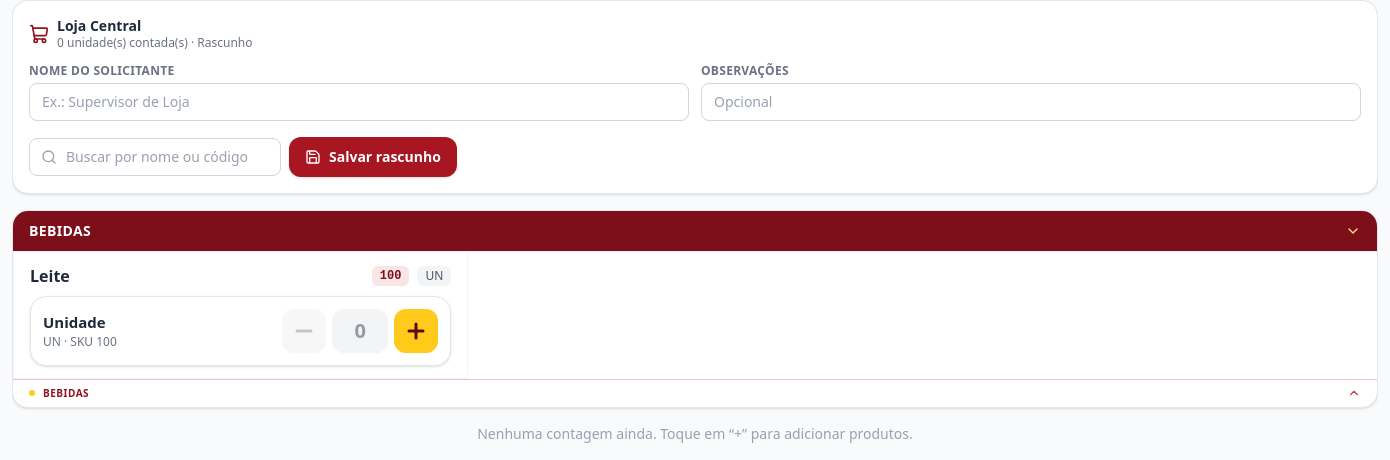
CountingBoard — categorias colapsadas persistidas › expande de novo e limpa o estado gravado
Click the 1st button "Bebidas".
click(60, 230)  # box [13,210,1377,250]
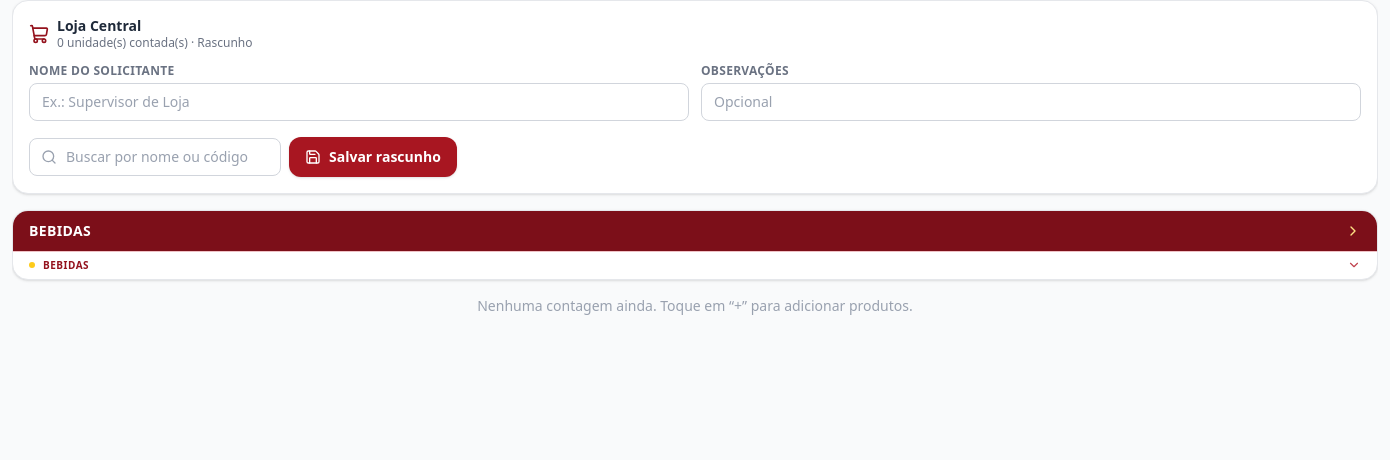
Click the 1st button "Bebidas".
click(60, 230)  # box [13,210,1377,250]
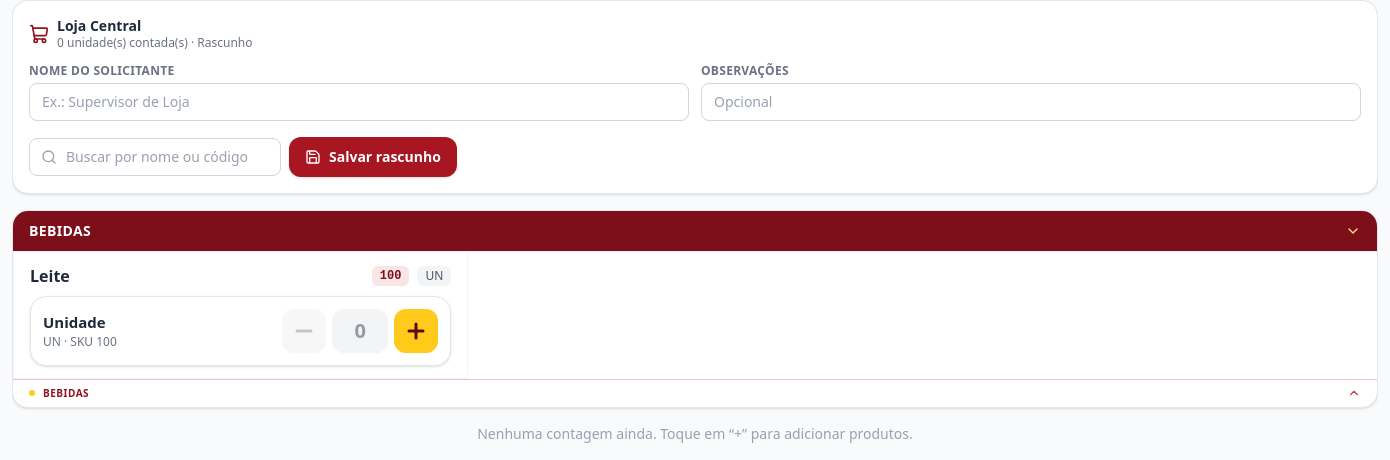
expect the 1st button "Bebidas" is expanded: met, box [13,210,1377,250]
